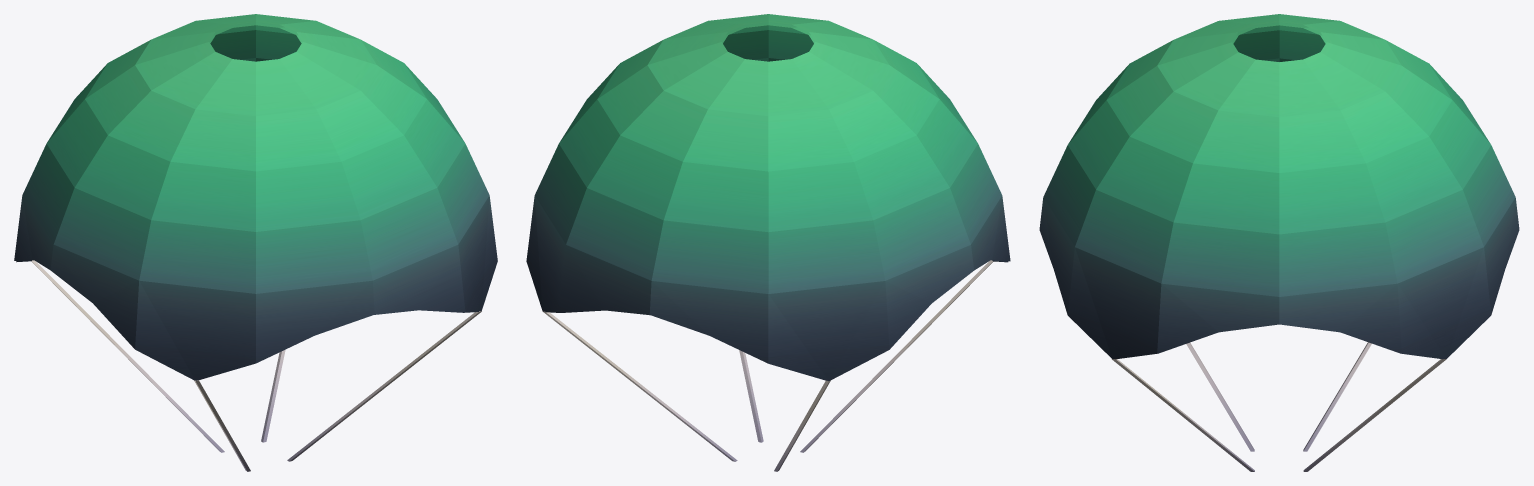
The model's file is Parachute.fbx.
The picture shows the model from 3 angles, left to right: view 1: azimuth 30°, elevation 25°; view 2: azimuth 150°, elevation 25°; view 3: azimuth 270°, elevation 25°; orthographic projection.
Parts seen in each view (by area): view 1: Parachute; view 2: Parachute; view 3: Parachute.
Boxes of the visible parts, bbox=[...] form: Parachute: bbox=[14, 14, 497, 471]; Parachute: bbox=[526, 14, 1010, 471]; Parachute: bbox=[1039, 14, 1519, 471].
Size of the model in its own units: 588 by 566 by 588.
